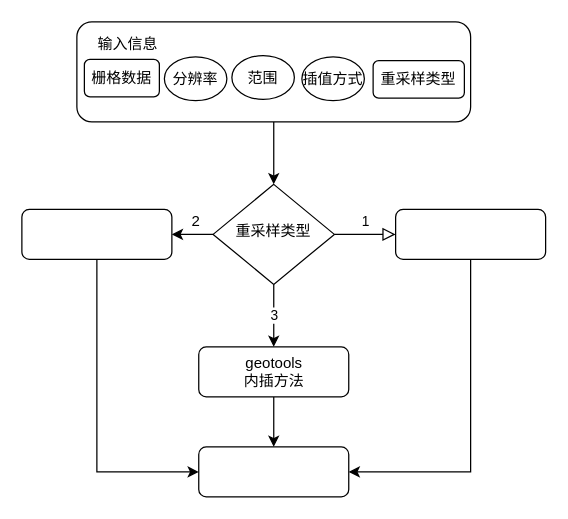
Image size: 568x519. Some labels were removed from this diagram. Each missing label, with the centre of its shape:
"geotools 切割栅格方法" goes at (x=96, y=233).
"geotools 转换分辨率方法" goes at (x=470, y=233).
"保存并输出结果" goes at (x=273, y=471).
